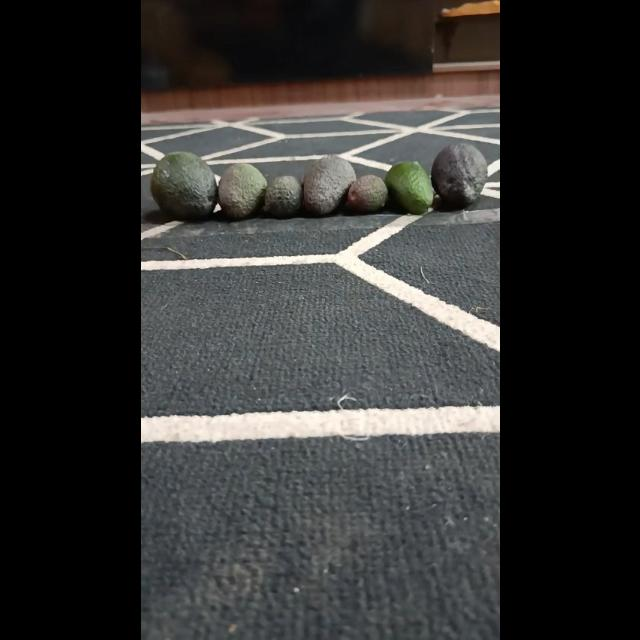Primera: (150, 150, 218, 220), (429, 143, 486, 210)
Segunda: (301, 156, 355, 217), (216, 162, 268, 220), (382, 160, 433, 214)
Tercera: (344, 174, 388, 214), (261, 176, 301, 218)
